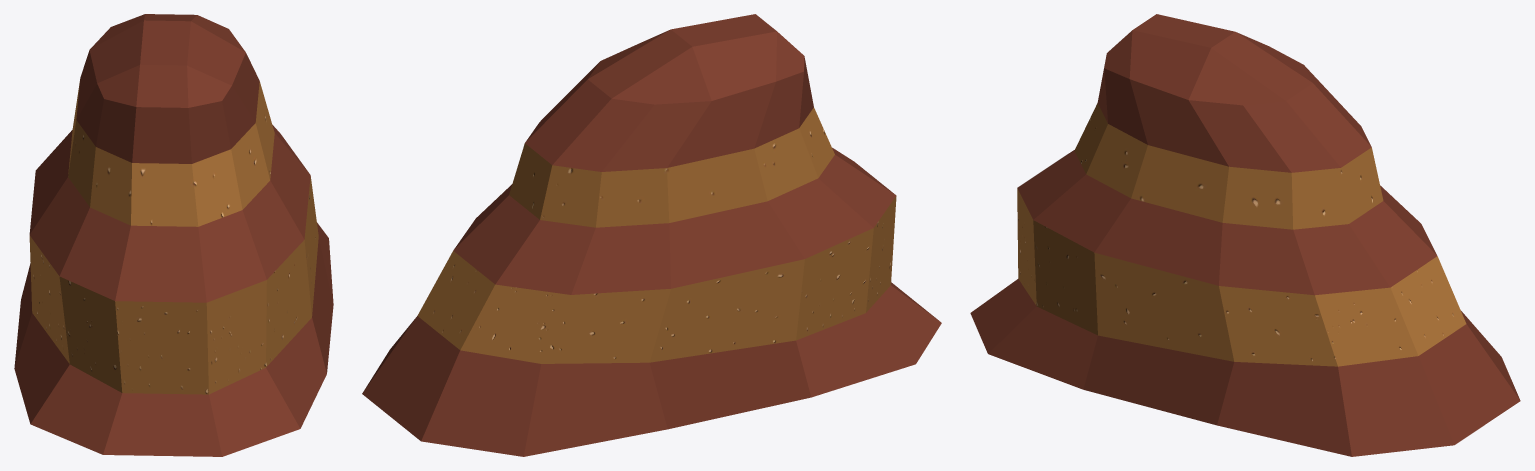
Rendered from Mountain_01_240419.fbx.
3 views of the same model, side by side, from view 1: azimuth 30°, elevation 25°; view 2: azimuth 150°, elevation 25°; view 3: azimuth 270°, elevation 25° (orthographic). The views are drawn at different scales.
Parts seen in each view (by area): view 1: Mountain_01; view 2: Mountain_01; view 3: Mountain_01.
Boxes of the visible parts, <box> form: Mountain_01: <box>14,14,333,456</box>; Mountain_01: <box>362,14,941,456</box>; Mountain_01: <box>970,14,1520,456</box>.
Bounding box in the file's own units: 2924 × 2165 × 3485.
